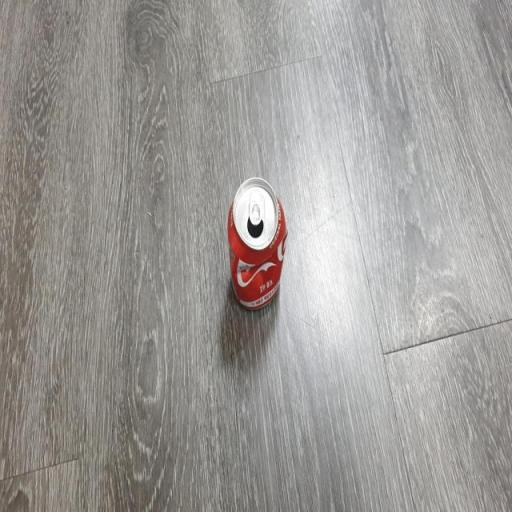metal: (216, 160, 299, 321)
